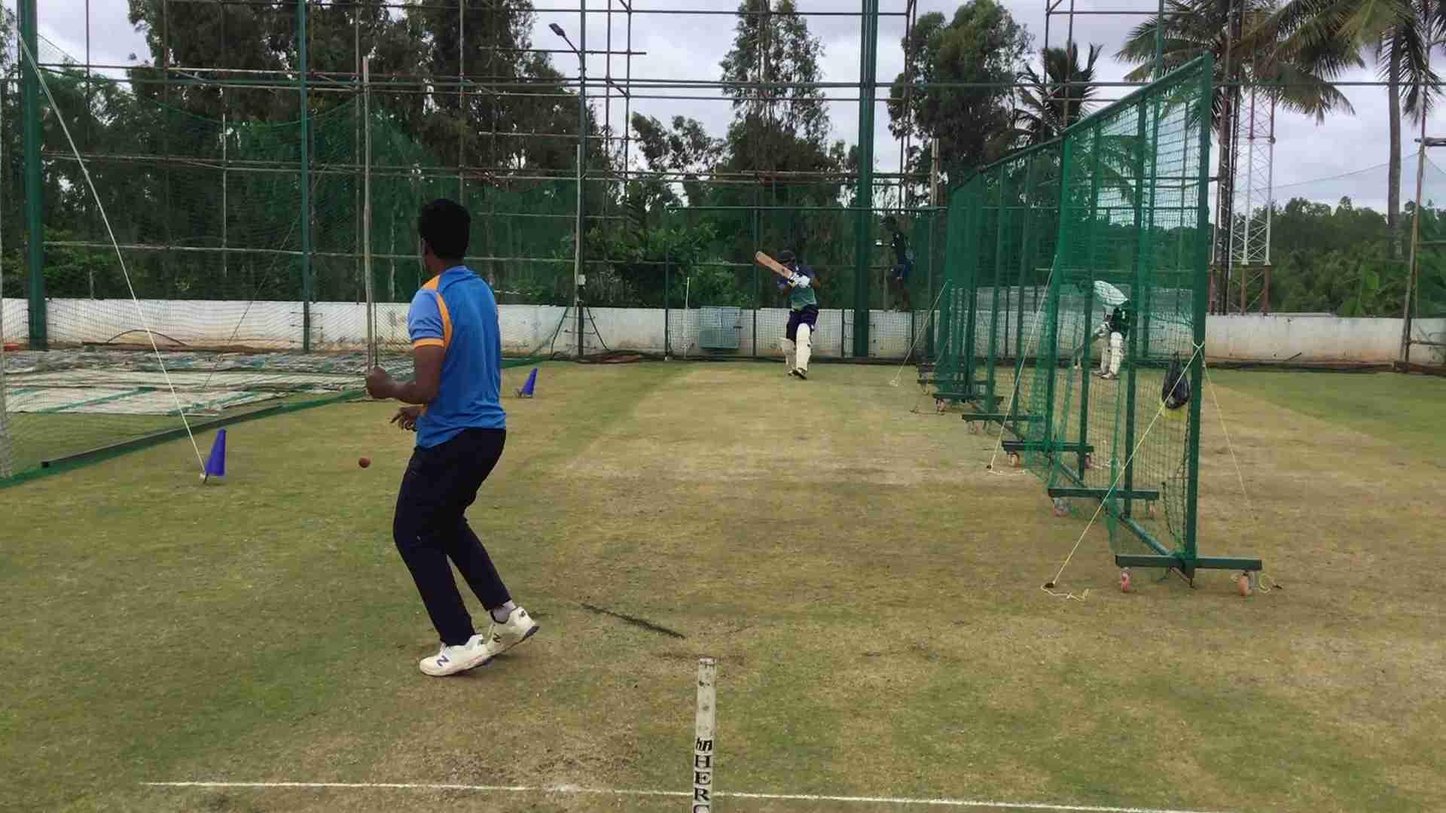batsman: (770, 239, 820, 385)
